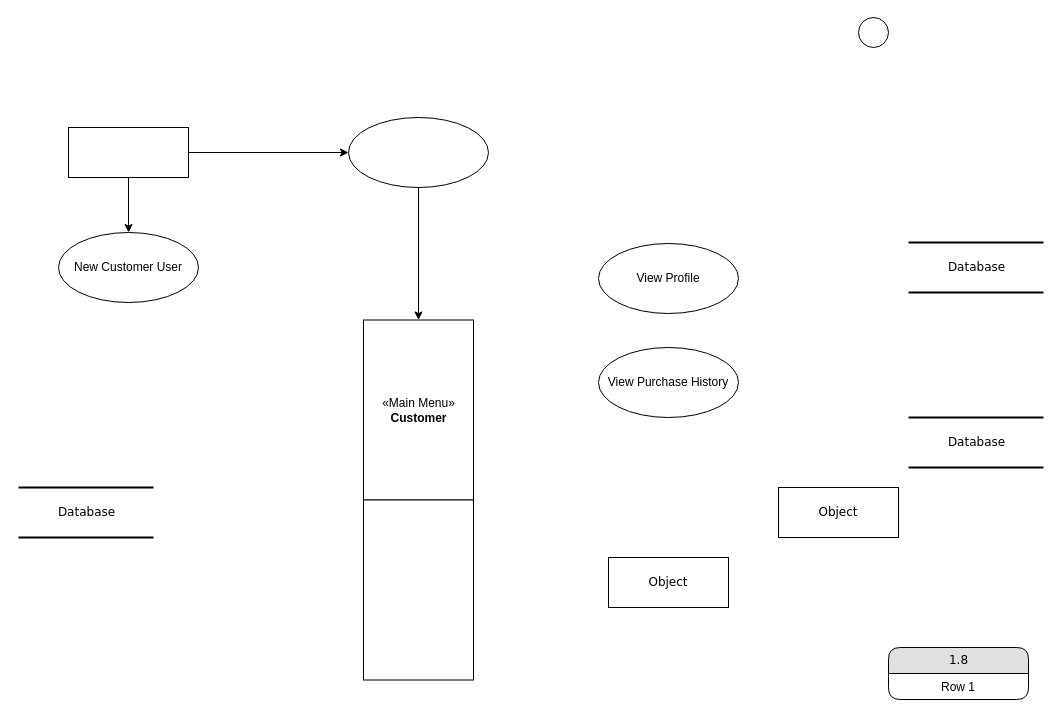
Image size: 1061x720. Some labels were removed from this diagram. Here are the shapes that lost their labels. From the top down, the centre of each, then its label:
At (873,32): "or".
At (128,152): "User".
At (418,152): "Login".
At (418,589): "«Main Menu» Admin".
